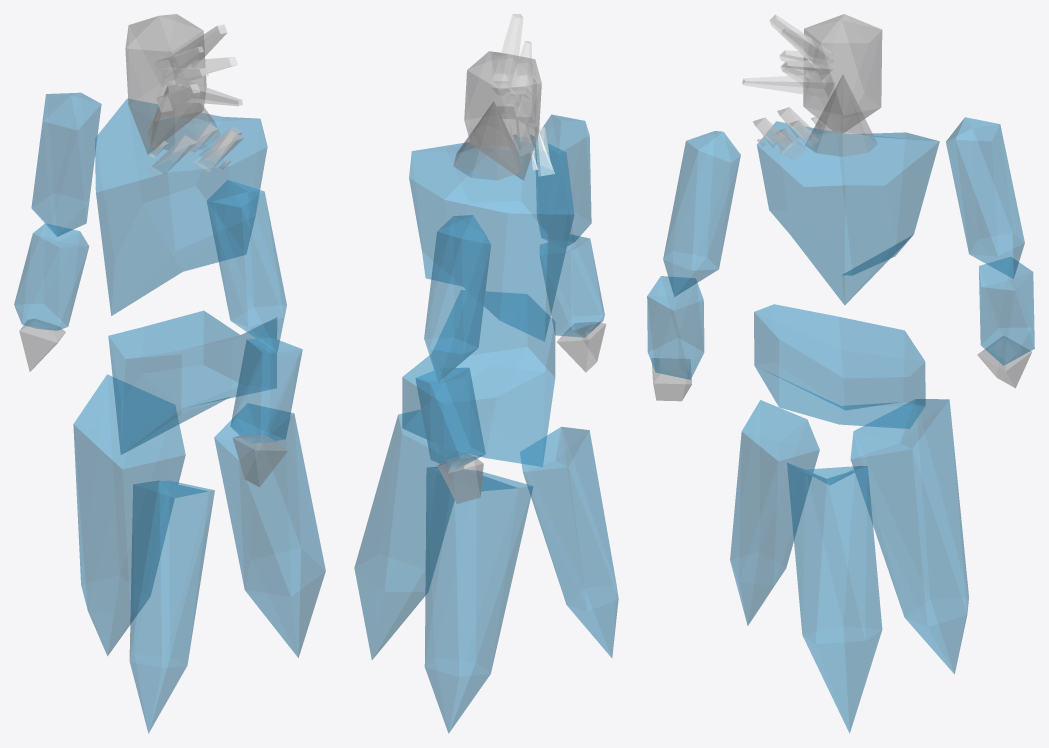
The model's file is ghostIdle28.obj.
The picture shows the model from 3 angles, left to right: view 1: azimuth 30°, elevation 25°; view 2: azimuth 150°, elevation 25°; view 3: azimuth 270°, elevation 25°; orthographic projection. The views are drawn at different scales.
Parts seen in each view (by area): view 1: Cube.001_Cube.001, Icosphere.005, Icosphere.004, Cube_Cube.002, Icosphere.003, Icosphere.005_Icosphere.001, Icosphere.003_Icosphere.001, Icosphere.007_Icosphere.001, Icosphere.008_Icosphere.001, Icosphere.006_Icosphere.001, Cone_Cone.002, Cube.002_Cube.001 (+9 smaller); view 2: Cube.001_Cube.001, Cube_Cube.002, Icosphere.005, Icosphere.004, Icosphere.003, Icosphere.007_Icosphere.001, Icosphere.003_Icosphere.001, Icosphere.005_Icosphere.001, Icosphere.008_Icosphere.001, Icosphere.006_Icosphere.001, Cone_Cone.002, Cube.003_Cube.001 (+5 smaller); view 3: Cube.001_Cube.001, Icosphere.005, Icosphere.004, Cube_Cube.002, Icosphere.003, Icosphere.005_Icosphere.001, Icosphere.007_Icosphere.001, Icosphere.003_Icosphere.001, Icosphere.006_Icosphere.001, Icosphere.008_Icosphere.001, Cone_Cone.002, Cube.003_Cube.001 (+4 smaller).
Boxes of the visible parts, x1,y1,x2,y2 form: Cube.001_Cube.001: (94, 98, 267, 315); Icosphere.005: (73, 374, 185, 655); Icosphere.004: (214, 403, 325, 657); Cube_Cube.002: (108, 310, 276, 454); Icosphere.003: (129, 480, 214, 733); Icosphere.005_Icosphere.001: (206, 180, 286, 352); Icosphere.003_Icosphere.001: (125, 14, 206, 154); Icosphere.007_Icosphere.001: (31, 92, 101, 236); Icosphere.008_Icosphere.001: (14, 223, 89, 330); Icosphere.006_Icosphere.001: (230, 338, 302, 443); Cone_Cone.002: (148, 86, 220, 150); Cube.002_Cube.001: (232, 434, 287, 486); Cube.001_Cube.001: (409, 135, 574, 341); Cube_Cube.002: (402, 290, 555, 466); Icosphere.005: (424, 466, 533, 733); Icosphere.004: (354, 410, 466, 659); Icosphere.003: (520, 427, 618, 657); Icosphere.007_Icosphere.001: (424, 215, 490, 381); Icosphere.003_Icosphere.001: (464, 51, 541, 180); Icosphere.005_Icosphere.001: (535, 114, 591, 248); Icosphere.008_Icosphere.001: (415, 367, 485, 469); Icosphere.006_Icosphere.001: (540, 235, 604, 337); Cone_Cone.002: (453, 101, 519, 180); Cube.003_Cube.001: (438, 454, 483, 503); Cube.001_Cube.001: (757, 121, 939, 305); Icosphere.005: (850, 399, 968, 673); Icosphere.004: (787, 463, 882, 733); Cube_Cube.002: (754, 304, 925, 428); Icosphere.003: (730, 400, 819, 625); Icosphere.005_Icosphere.001: (663, 131, 740, 296); Icosphere.007_Icosphere.001: (946, 117, 1024, 278); Icosphere.003_Icosphere.001: (803, 14, 882, 132); Icosphere.006_Icosphere.001: (647, 276, 704, 379); Icosphere.008_Icosphere.001: (979, 257, 1034, 365); Cone_Cone.002: (805, 75, 877, 156); Cube.003_Cube.001: (977, 336, 1031, 388).
Bounding box in the file's own units: 16.72 × 49 × 25.77.
